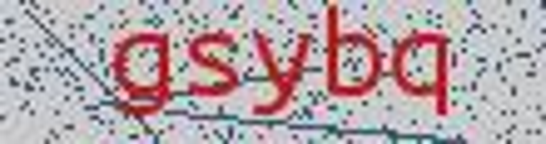b: (318, 1, 384, 99)
g: (108, 24, 175, 126)
q: (391, 25, 468, 122)
s: (184, 24, 244, 101)
y: (248, 22, 314, 124)
